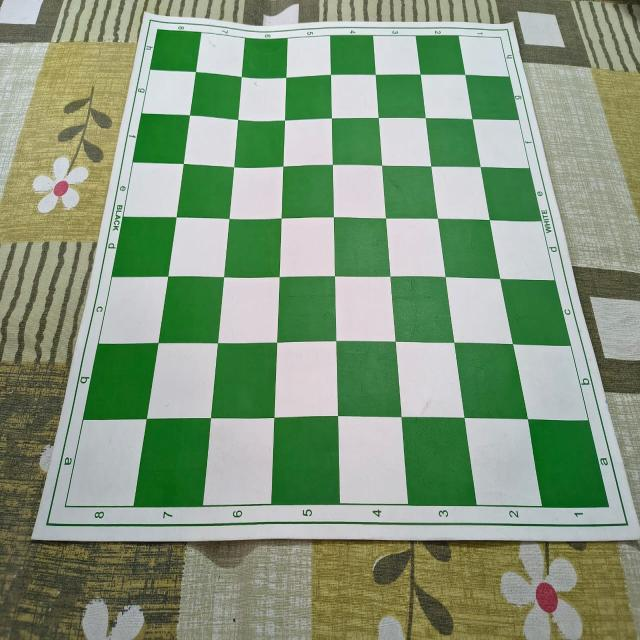square: (66, 419, 147, 506), (529, 419, 609, 507), (465, 417, 543, 507), (133, 418, 211, 508), (401, 417, 477, 506), (203, 418, 275, 506), (339, 416, 408, 505), (272, 416, 340, 504), (83, 344, 159, 420), (454, 343, 529, 419), (514, 345, 589, 420), (147, 343, 218, 419), (395, 342, 465, 418), (336, 342, 402, 418), (211, 343, 277, 418), (500, 279, 571, 346), (274, 342, 338, 416), (99, 276, 169, 343), (445, 278, 513, 344), (158, 277, 224, 344), (390, 277, 455, 343), (218, 276, 280, 344), (277, 276, 337, 343), (335, 276, 395, 342), (112, 217, 177, 277), (490, 221, 555, 280), (438, 219, 500, 279), (167, 218, 230, 277), (386, 218, 445, 277), (224, 219, 282, 277), (279, 217, 335, 277), (334, 217, 390, 277), (123, 163, 184, 218), (176, 164, 235, 219), (481, 168, 542, 221), (431, 167, 490, 221), (382, 166, 438, 219), (333, 165, 386, 219), (133, 114, 190, 164), (281, 165, 334, 218), (184, 115, 238, 167), (230, 167, 284, 219), (473, 120, 530, 168), (426, 118, 481, 167), (142, 69, 196, 116), (379, 118, 431, 166), (283, 118, 333, 166), (191, 73, 242, 120), (421, 74, 473, 120), (332, 118, 382, 165), (466, 75, 518, 120), (235, 120, 285, 166), (375, 75, 426, 119), (150, 29, 202, 72), (196, 33, 245, 78), (285, 74, 332, 120), (458, 35, 509, 77), (238, 77, 286, 120), (331, 75, 379, 118), (416, 35, 466, 75), (286, 36, 331, 78), (373, 36, 420, 75), (242, 38, 287, 78), (330, 36, 376, 74)
